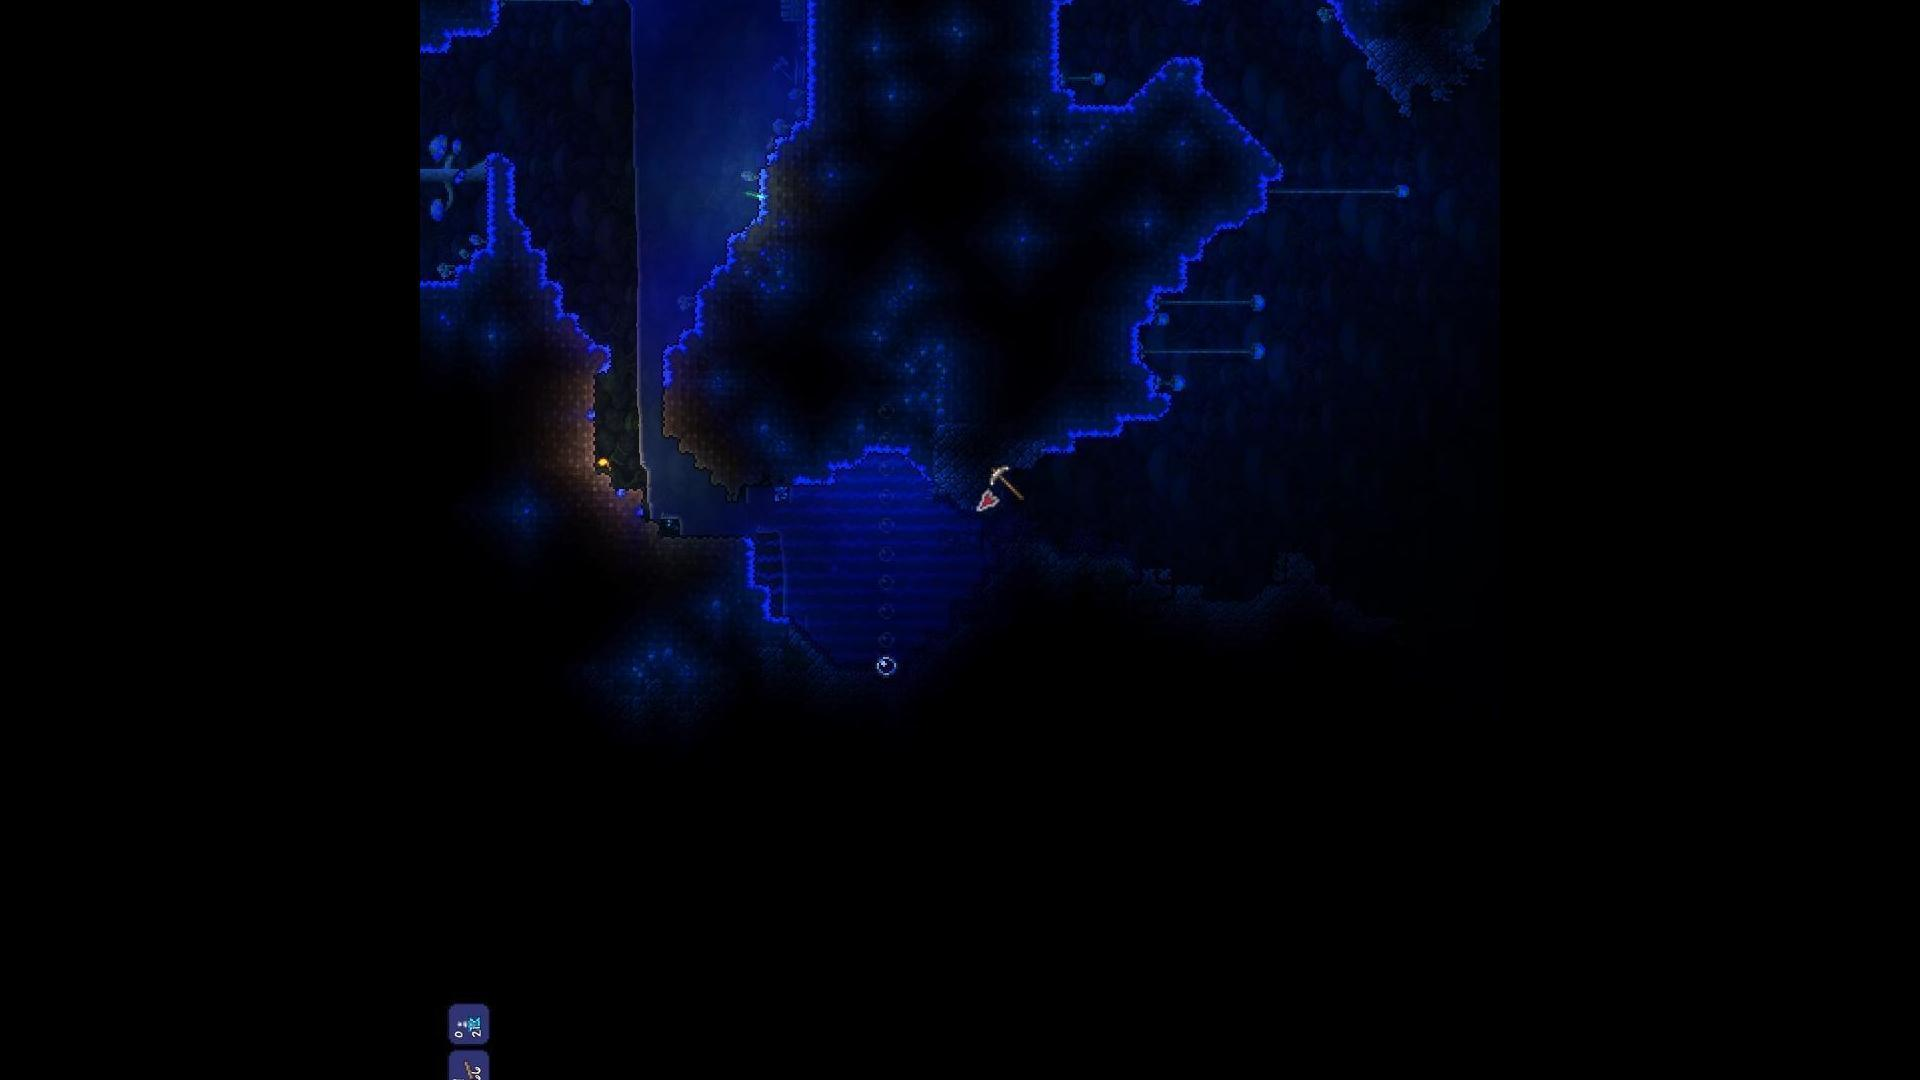glowstick: (738, 183, 767, 203)
platform: (459, 1059, 476, 1080)
recallP: (455, 1013, 481, 1033)
